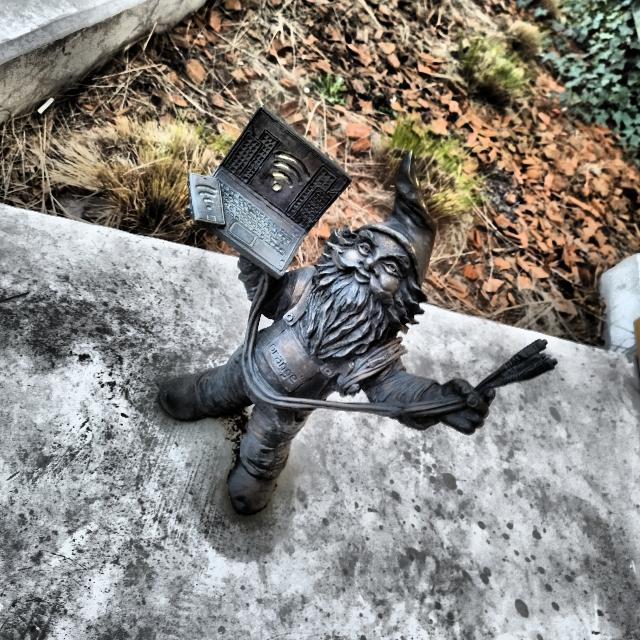Krasnal_Teleclaw: (159, 108, 555, 514)
